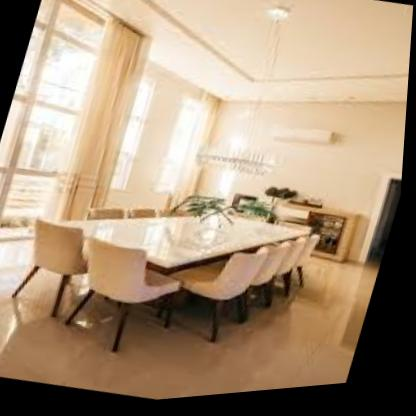Ceramic floor: (0, 260, 383, 403)
Curtains: (38, 9, 149, 232)
Dining Table: (0, 144, 357, 407)
